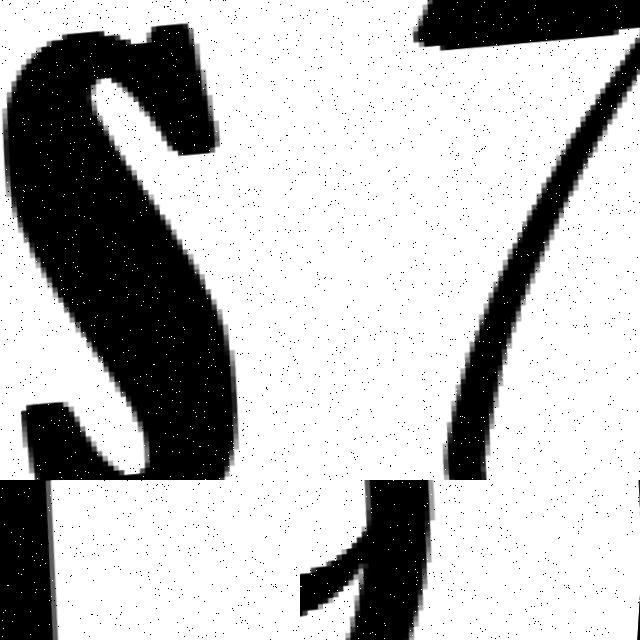7: (376, 0, 640, 480)
9: (300, 480, 479, 640)
S: (0, 8, 280, 480)
T: (0, 480, 239, 640)
